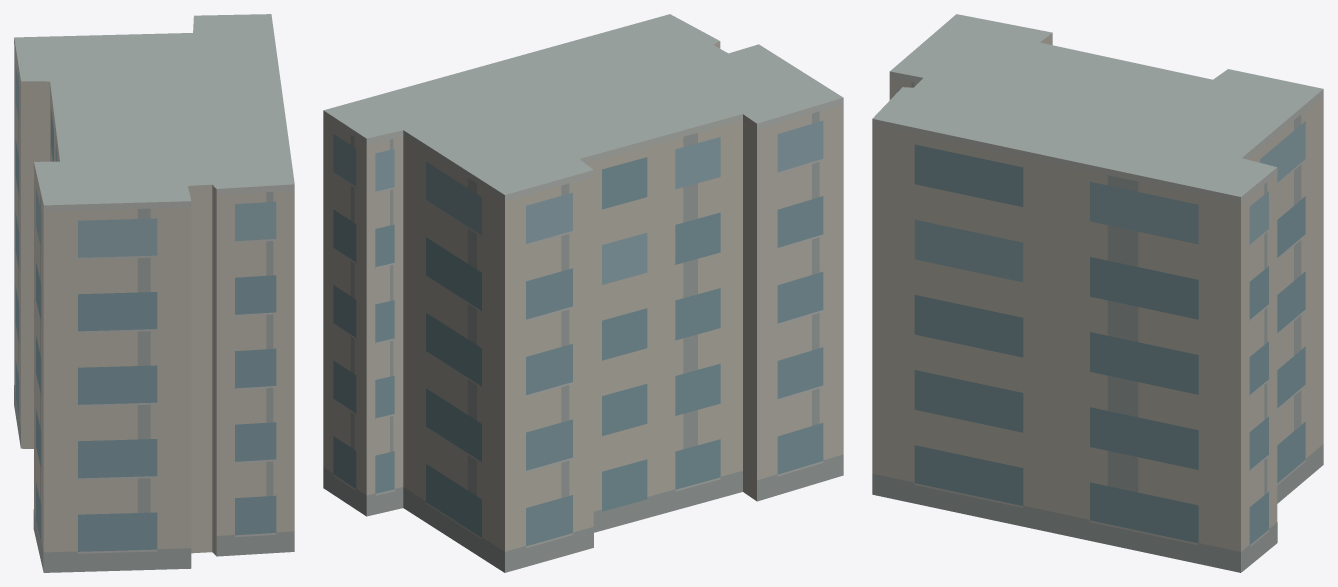
Rendered from survey-upis-32889600.glb.
3 renders of one model, left to right at view 1: azimuth 30°, elevation 25°; view 2: azimuth 150°, elevation 25°; view 3: azimuth 270°, elevation 25°, orthographic. The views are drawn at different scales.
Parts seen in each view (by area): view 1: survey-upis-32889600.tmp; view 2: survey-upis-32889600.tmp; view 3: survey-upis-32889600.tmp.
Boxes of the visible parts, left/top/right/bottom form: survey-upis-32889600.tmp: left=14, top=14, right=294, bottom=572; survey-upis-32889600.tmp: left=323, top=14, right=843, bottom=572; survey-upis-32889600.tmp: left=872, top=14, right=1323, bottom=572.
Size of the model in its own units: 15.05 by 14.4 by 15.68.
